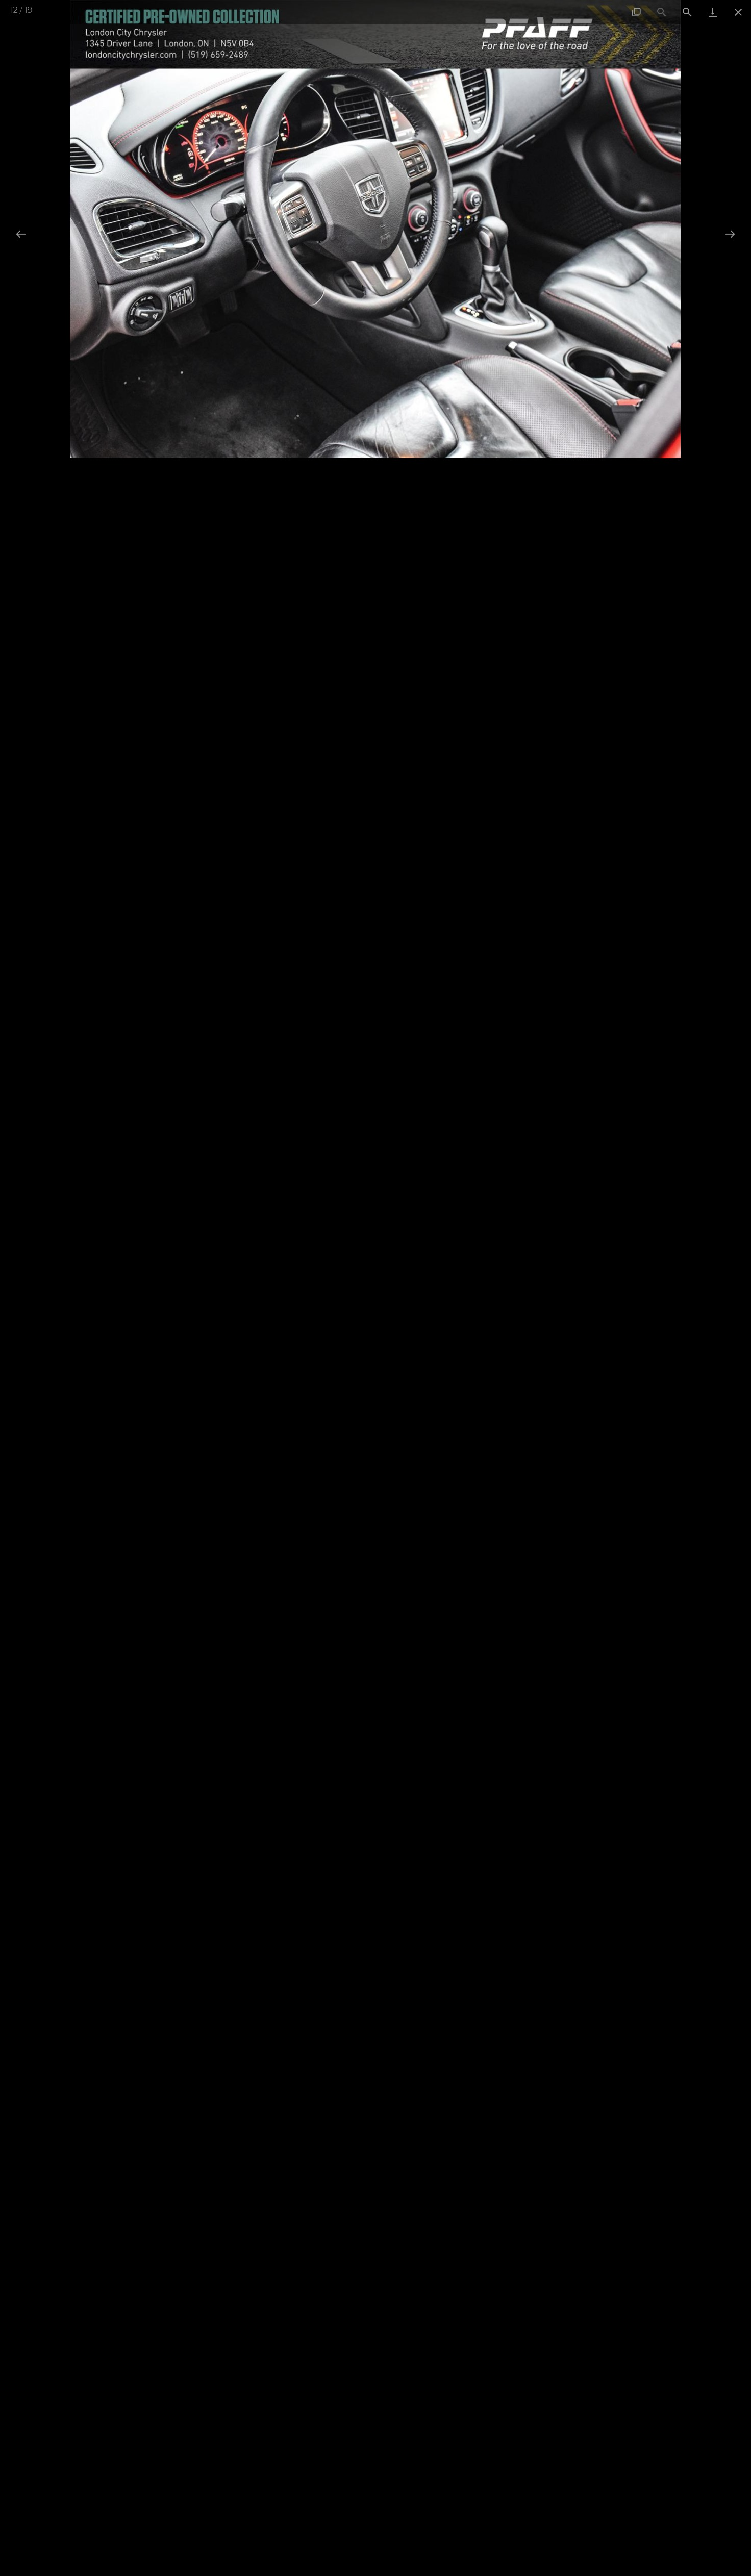car: (726, 230, 735, 238)
